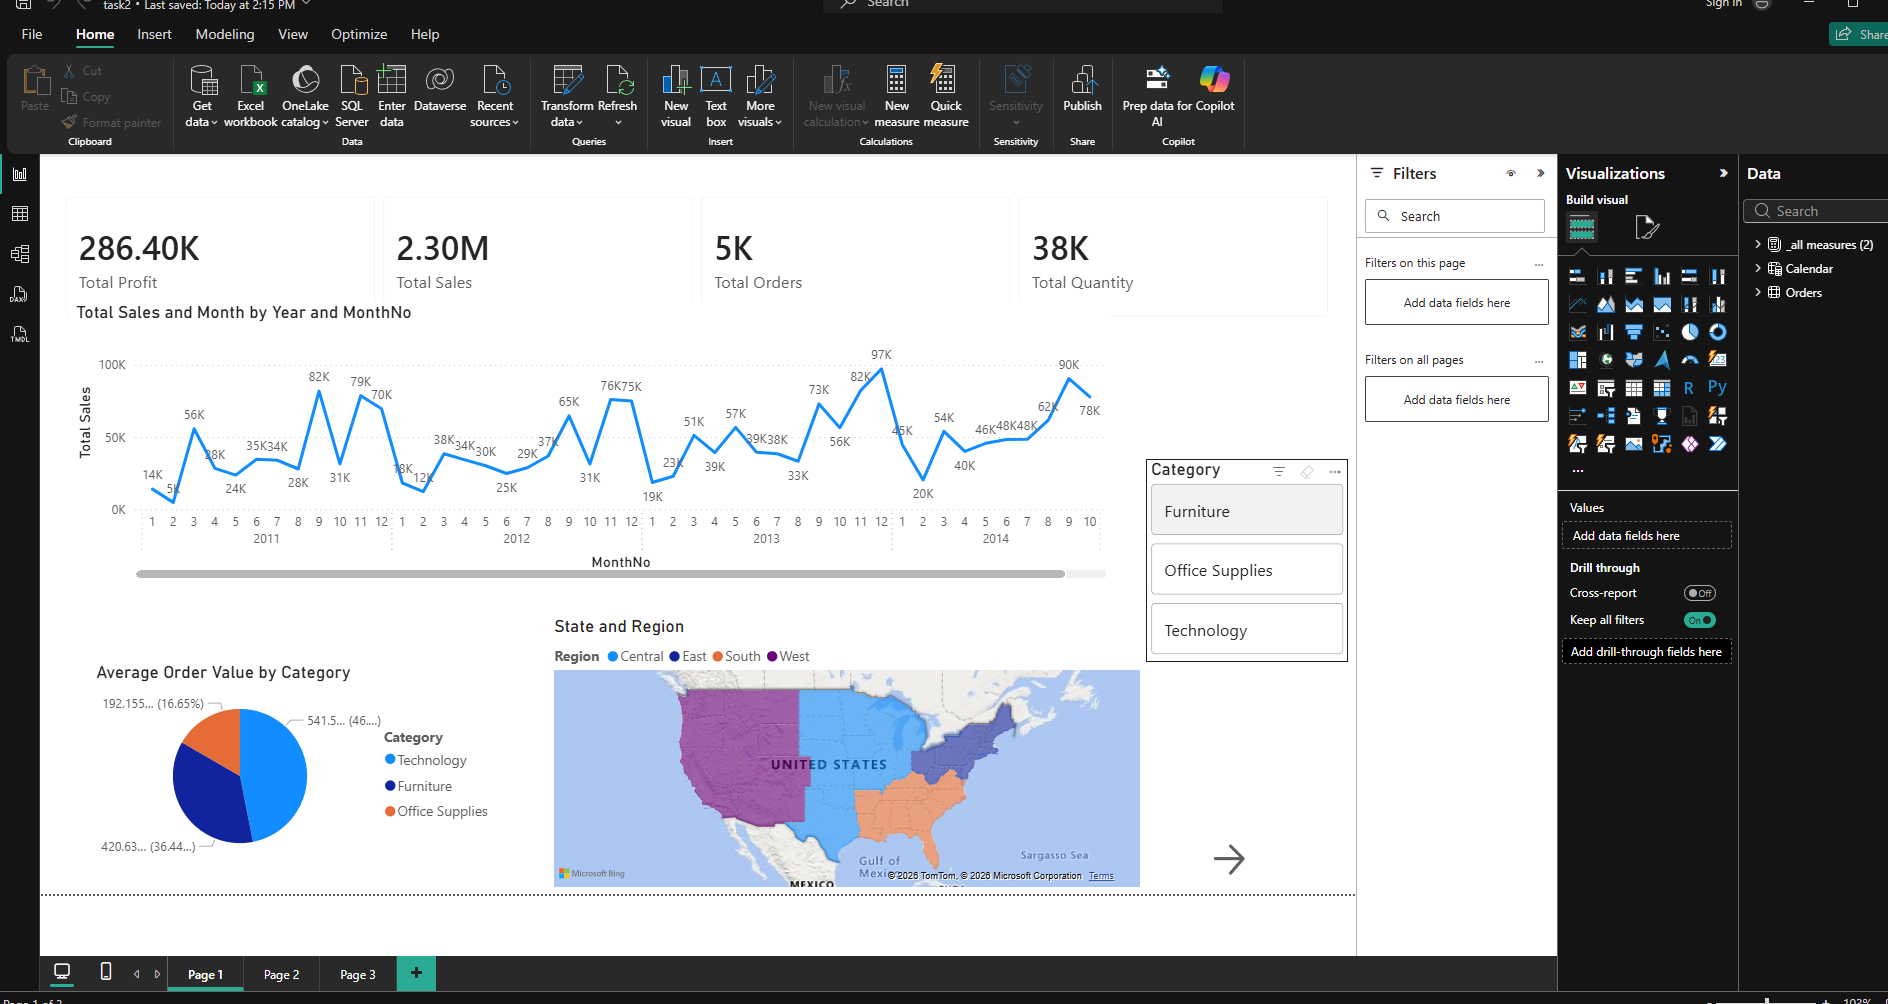

This screenshot's page, from the dashboard's own definition file:
{"tool":"powerbi","page":{"name":"Page 1","canvas":[1280,720],"ordinal":0},"visuals":[{"type":"advancedSlicerVisual","fields":{"Values":["Orders.Category"]},"box":[1075.3,296.6,197.1,197.1],"z":0},{"type":"cardVisual","fields":{"Data":["_all measures (2).Total Profit","_all measures (2).Total Sales","_all measures (2).Total Orders","_all measures (2).Total Quantity"]},"box":[8,23.9,1264.1,151.3],"z":1000},{"type":"pieChart","fields":{"Category":["Orders.Category"],"Y":["_all measures (2).Average Order Value"]},"box":[49.7,493.6,399.9,202.8],"z":2000},{"type":"lineChart","fields":{"Category":["Calendar.Year","Calendar.MonthNo"],"Y":["_all measures (2).Total Sales"]},"box":[30.6,143.5,1012.1,273.6],"z":3000},{"type":"filledMap","fields":{"Series":["Orders.Region"],"Category":["Orders.State"]},"box":[495.5,449.6,579.7,269.8],"z":4000},{"type":"actionButton","box":[1136.5,665.8,95.7,40.2],"z":4001}]}

Visuals, with their boxes on the page's 1280x720 design canvas (x1, y1, x2, y2). These are canvas units, not pixel positions in the 1888x1004 screenshot, which may show the page scaled, cropped or inside an application window:
advancedSlicerVisual - Orders.Category: 1075/297/1272/494
cardVisual - _all measures (2).Total Profit x _all measures (2).Total Sales: 8/24/1272/175
pieChart - Orders.Category x _all measures (2).Average Order Value: 50/494/450/696
lineChart - Calendar.Year x Calendar.MonthNo: 31/144/1043/417
filledMap - Orders.Region x Orders.State: 496/450/1075/719
actionButton: 1136/666/1232/706
